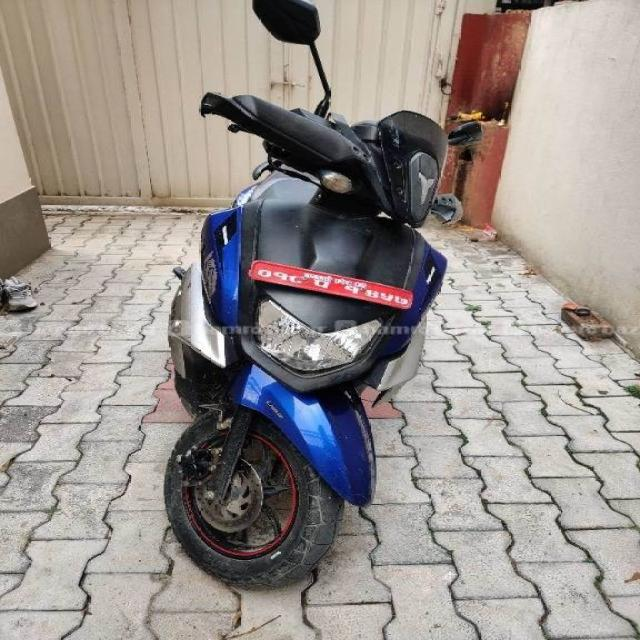License-plate: (249, 260, 415, 310)
